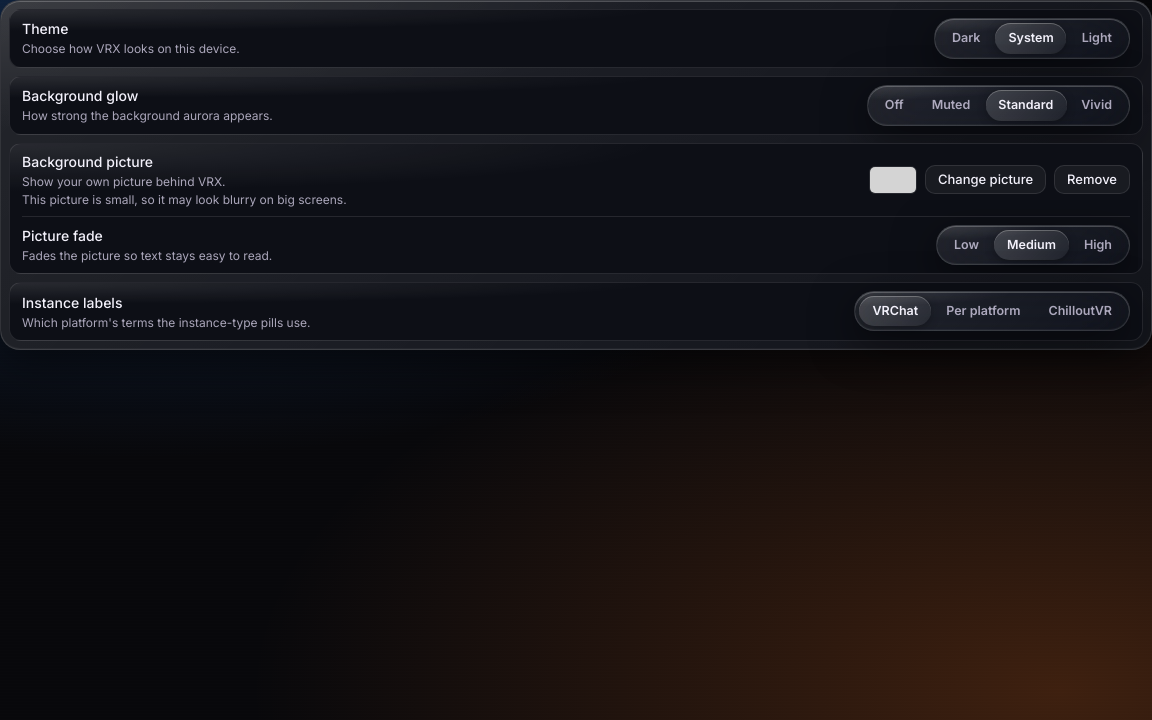
it: SettingsView — background picture › warns about a small picture and drops the warning once the picture changes
expect the message with test id "background-picture-warning" reads "This picture is small, so it may look blurry on big screens.": met, box 22,192 -> 347,206
Click the button "Change picture".
click(986, 180)  # box 925,165 -> 1046,194
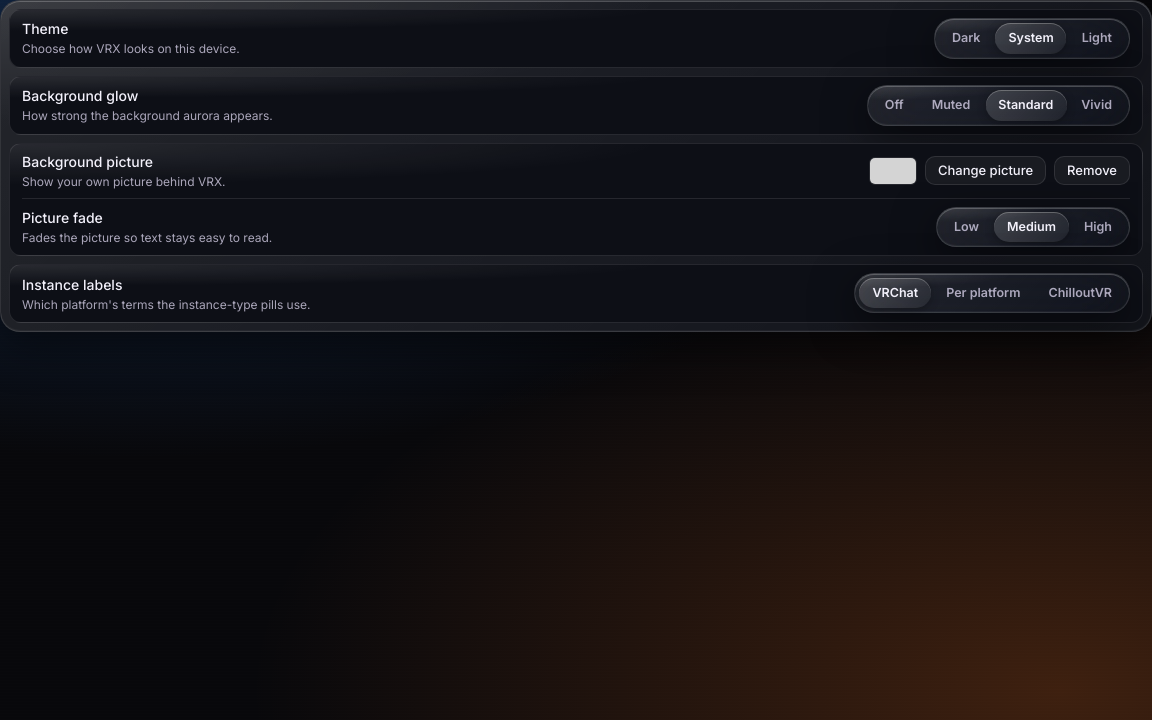
expect the message with test id "background-picture-warning" is gone: met
